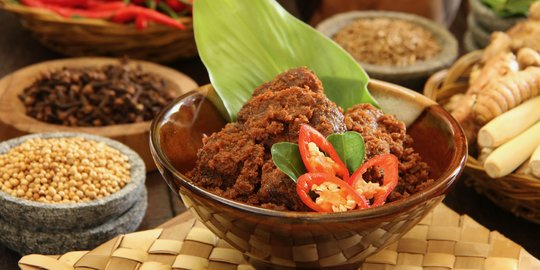rendang: (183, 70, 430, 239)
